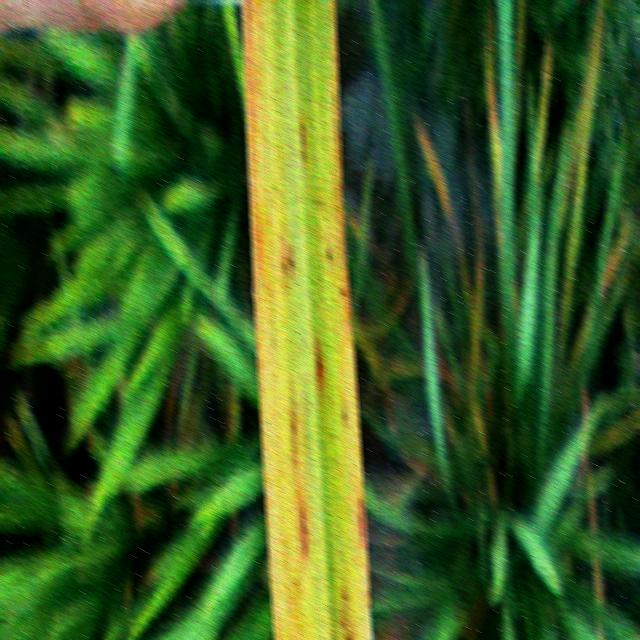NBS: (301, 508, 308, 558), (358, 496, 365, 546), (299, 118, 306, 168), (317, 353, 322, 381), (346, 629, 356, 640), (341, 613, 347, 631), (342, 588, 347, 605)
